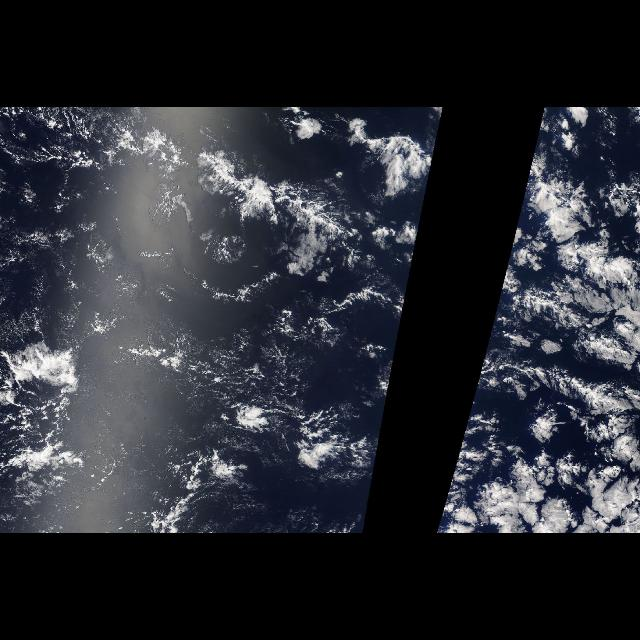Fish: (6, 115, 424, 311)
Flower: (436, 127, 640, 533), (286, 127, 442, 526)
